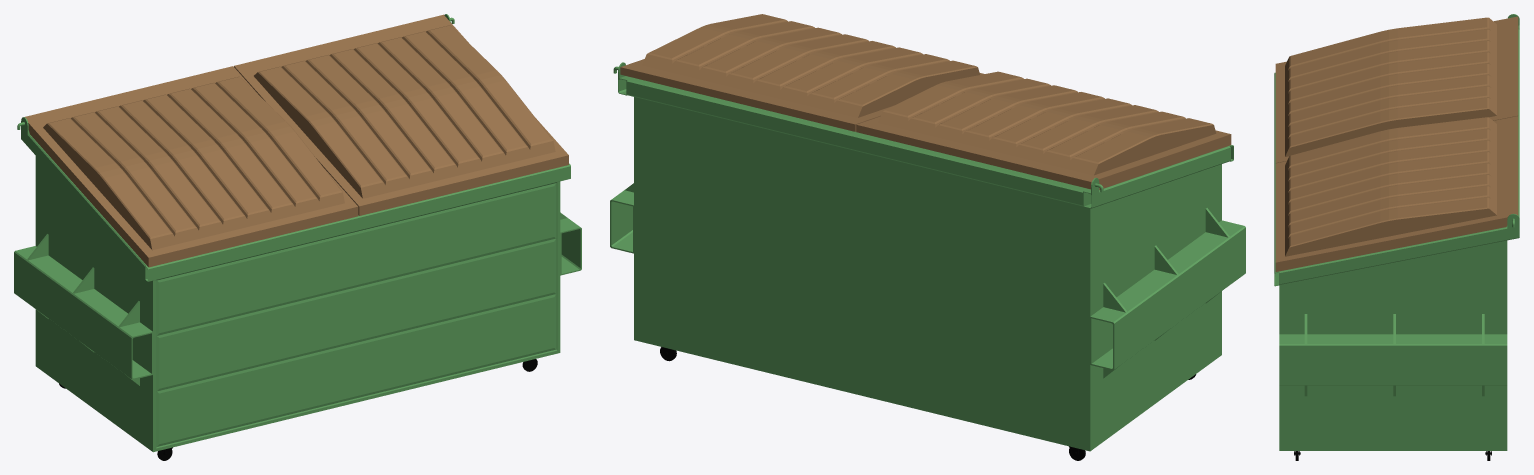
Rendered from Dumpster.fbx.
3 renders of one model, left to right at view 1: azimuth 30°, elevation 25°; view 2: azimuth 150°, elevation 25°; view 3: azimuth 270°, elevation 25°, orthographic. The views are drawn at different scales.
Visible parts, largest first — view 1: Dumpster, Cover.001_Cover, Cover; view 2: Dumpster, Cover.001_Cover, Cover; view 3: Dumpster, Cover, Cover.001_Cover.
Boxes of the visible parts, bbox=[...] form: Dumpster: bbox=[14, 14, 581, 452]; Cover.001_Cover: bbox=[25, 66, 358, 267]; Cover: bbox=[234, 14, 568, 215]; Dumpster: bbox=[610, 62, 1245, 451]; Cover.001_Cover: bbox=[856, 71, 1231, 189]; Cover: bbox=[620, 14, 984, 131]; Dumpster: bbox=[1274, 14, 1519, 450]; Cover: bbox=[1275, 116, 1518, 271]; Cover.001_Cover: bbox=[1275, 16, 1518, 163].
Bounding box in the file's own units: 199 × 114 × 96.94.
